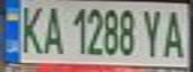1: (66, 3, 87, 55)
2: (84, 4, 106, 56)
8: (118, 6, 139, 57), (103, 4, 121, 56)
A: (160, 7, 187, 60), (39, 2, 66, 55)
K: (15, 1, 45, 55)
Y: (139, 6, 169, 58)
